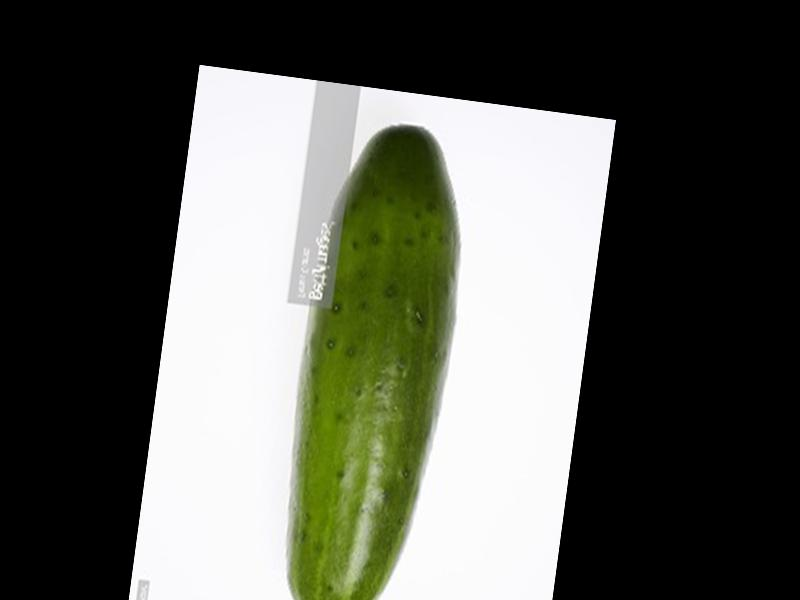Cucumber: (267, 109, 481, 600)
